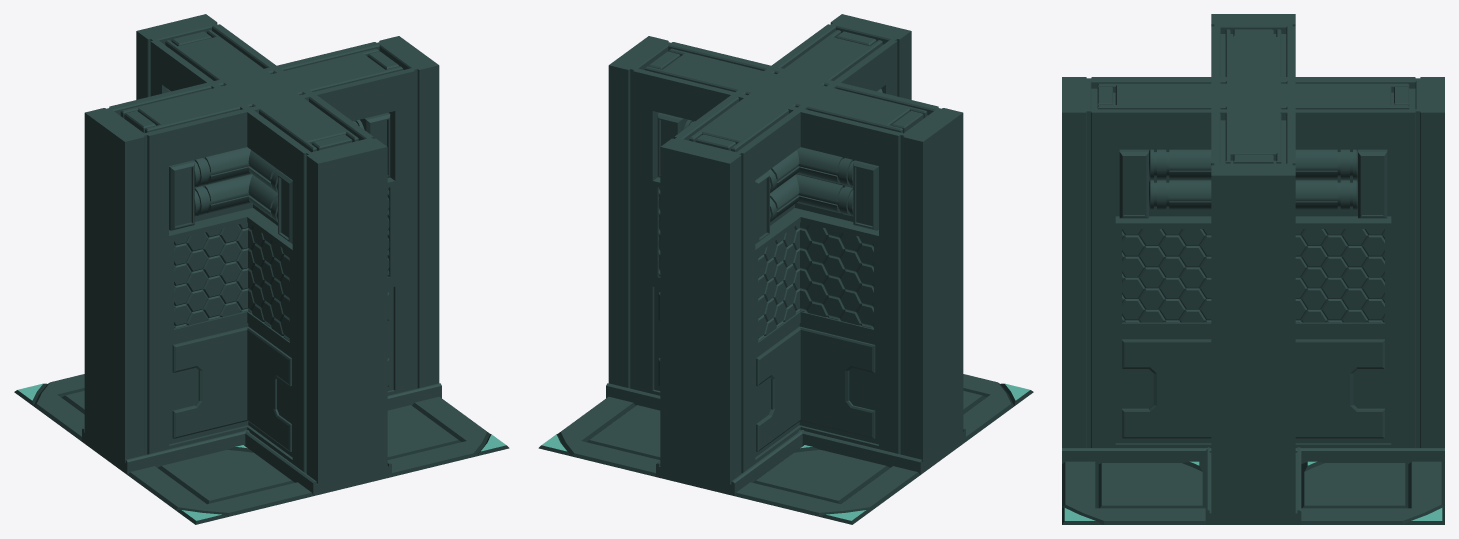
The model's file is Walls_4Way_Var01.fbx.
3 views of the same model, side by side, from view 1: azimuth 30°, elevation 25°; view 2: azimuth 150°, elevation 25°; view 3: azimuth 270°, elevation 25° (orthographic). The views are drawn at different scales.
Visible parts, largest first — view 1: Walls_4Way_Var01; view 2: Walls_4Way_Var01; view 3: Walls_4Way_Var01.
Boxes of the visible parts, box(x1,y1,x2,y2) form: Walls_4Way_Var01: box(14, 14, 509, 524); Walls_4Way_Var01: box(538, 14, 1033, 524); Walls_4Way_Var01: box(1062, 14, 1444, 524).
Bounding box in the file's own units: 600 × 604 × 600.
